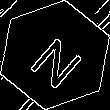N_NE: (22, 23, 88, 87)
